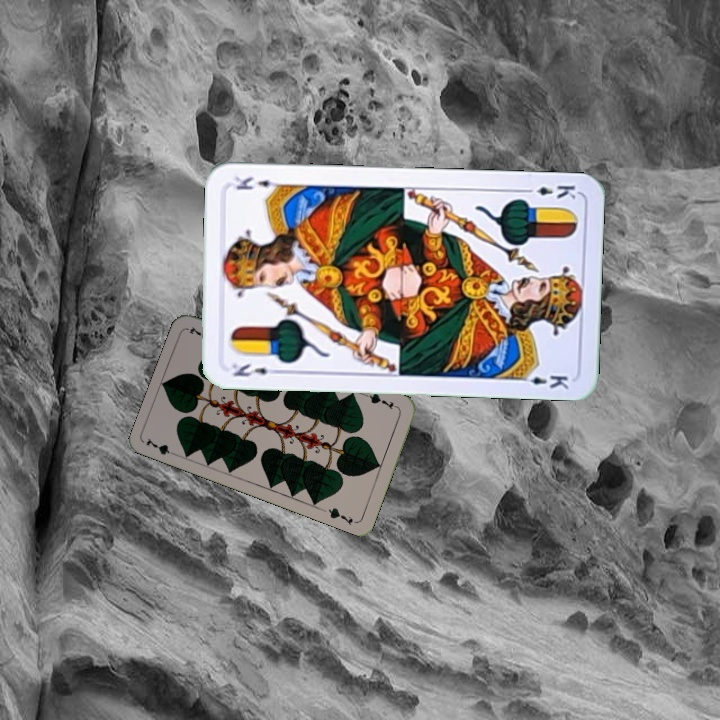EK: (519, 181, 578, 202), (228, 359, 283, 379)
G7: (142, 434, 181, 459), (362, 389, 401, 412)
